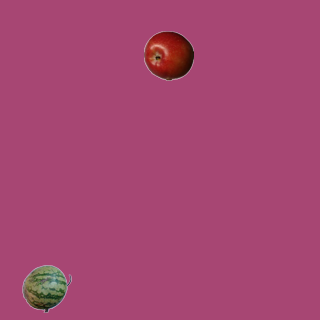Apple Braeburn: (143, 30, 193, 80)
Watermelon: (21, 263, 71, 313)
